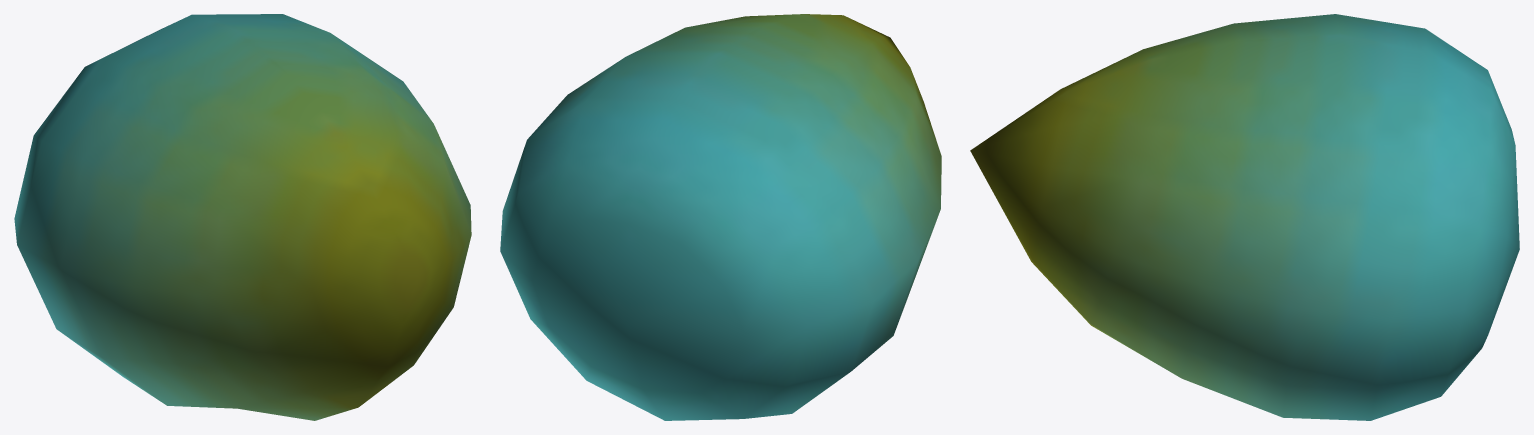
File: chaoTail.obj
3 views of the same model, side by side, from view 1: azimuth 30°, elevation 25°; view 2: azimuth 150°, elevation 25°; view 3: azimuth 270°, elevation 25° (orthographic). The views are drawn at different scales.
Visible parts, largest first — view 1: chd_b_M.007; view 2: chd_b_M.007; view 3: chd_b_M.007.
Part boxes in pixels (x1,y1,x2,y2): chd_b_M.007: [14, 14, 471, 420]; chd_b_M.007: [500, 14, 941, 420]; chd_b_M.007: [970, 14, 1519, 420].
Size of the model in its own units: 1.62 by 1.44 by 1.97.
Materials: 1 (1 with a texture image).
